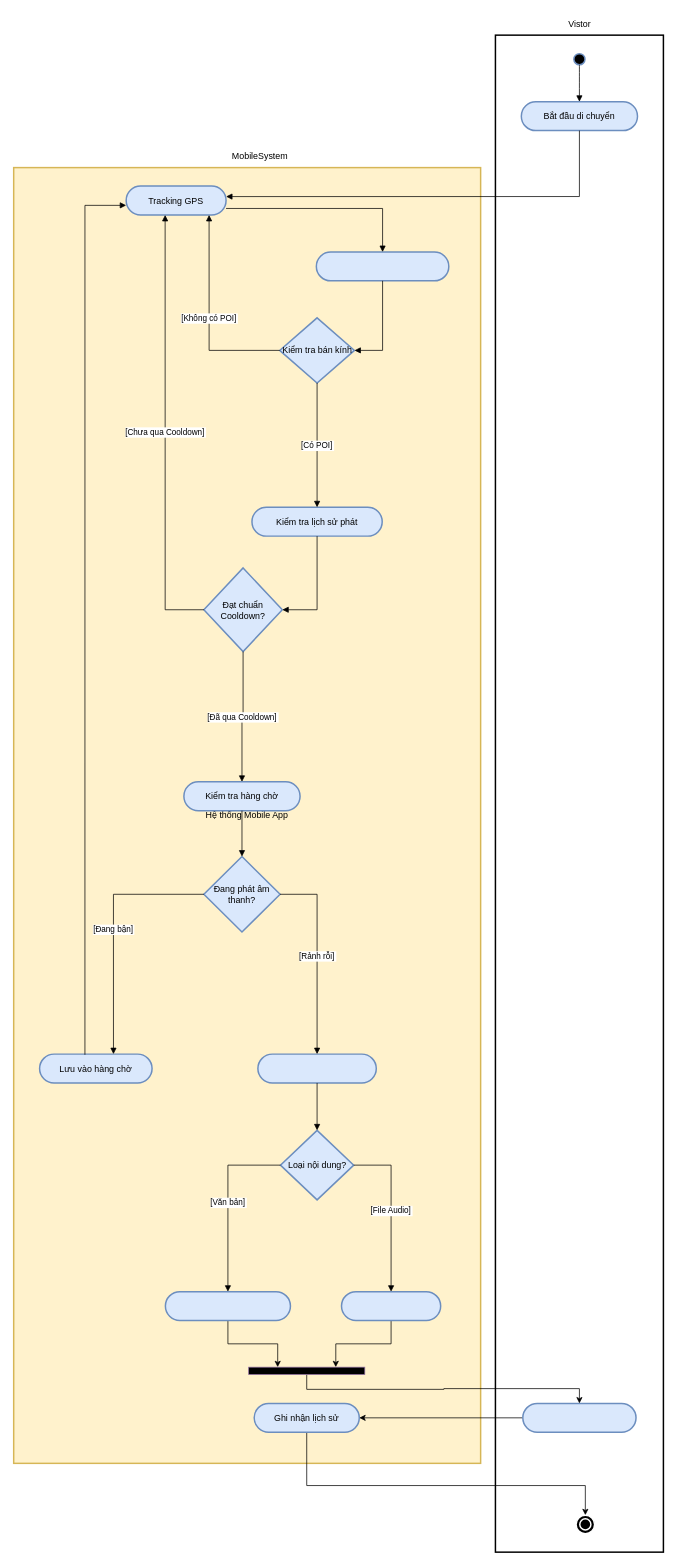
This 676x1565 diagram has some shape labels left out. The box of each missing label's shape, as (x1, y1, x2, y2) in pixels:
Nghe thuyết minh: (522, 1402, 636, 1433)
Phát Audio MP3: (340, 1291, 441, 1321)
Phát Text-to-Speech: (164, 1291, 291, 1321)
Truy xuất nội dung: (257, 1053, 377, 1083)
Tính khoảng cách POI: (315, 251, 449, 281)
